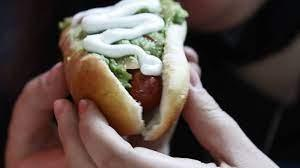Completos: (61, 0, 187, 143)
